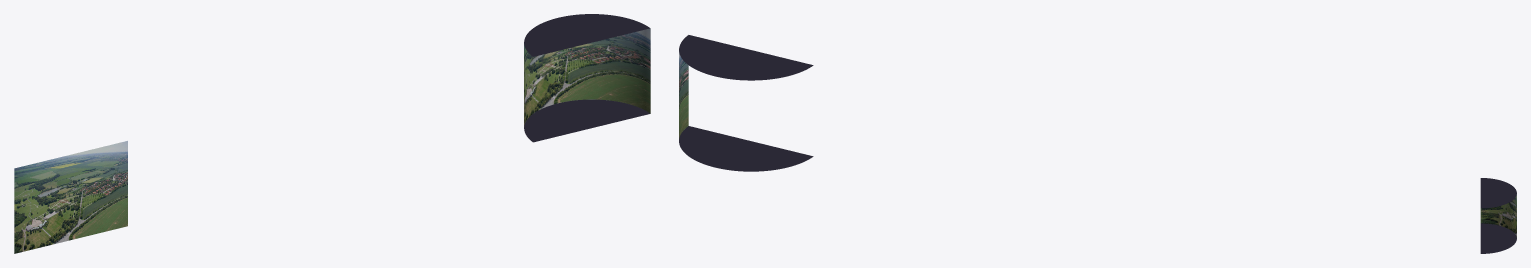
The model's file is luft1.glb.
3 views of the same model, side by side, from view 1: azimuth 30°, elevation 25°; view 2: azimuth 150°, elevation 25°; view 3: azimuth 270°, elevation 25° (orthographic). The views are drawn at different scales.
Visible parts, largest first — view 1: root, Komponente#2; view 2: Komponente#2, root; view 3: Komponente#2, root.
Part boxes in pixels (left/top/right/bottom): root: left=14, top=99, right=650, bottom=253; Komponente#2: left=524, top=14, right=650, bottom=126; Komponente#2: left=679, top=35, right=813, bottom=138; root: left=679, top=126, right=813, bottom=171; Komponente#2: left=1480, top=178, right=1516, bottom=237; root: left=1480, top=223, right=1516, bottom=253.
Size of the model in its own units: 25.07 by 4.58 by 3.98.
2 materials, 1 textured.
